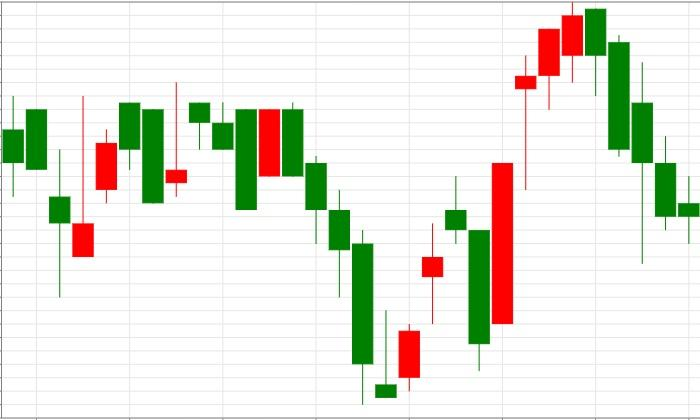inverse_hammer_rise: (188, 102, 397, 405), (3, 95, 95, 297)
